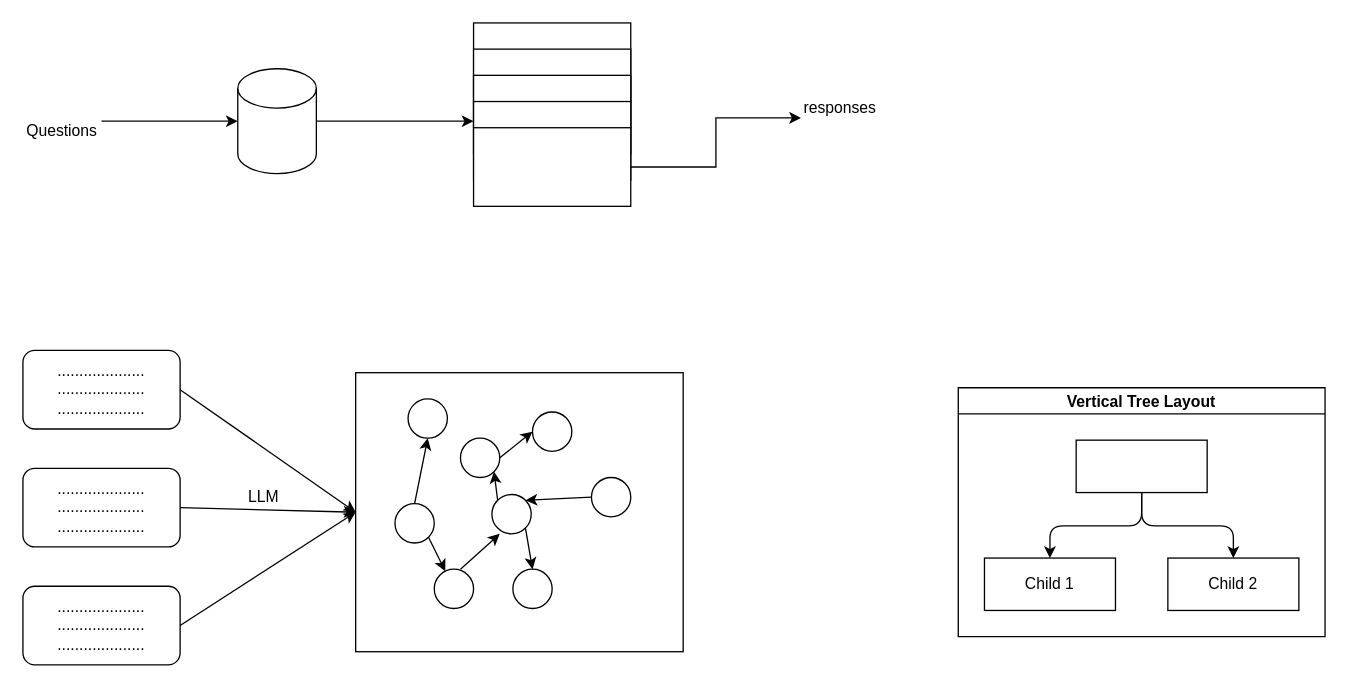
Some shapes in this 1348 by 688 pixel diagram are drawn without their labels. The centre of each missing label's shape, as x and y in pixels:
chunks: the point at 551,166
Root: the point at 1141,466
Vector DB: the point at 276,120
